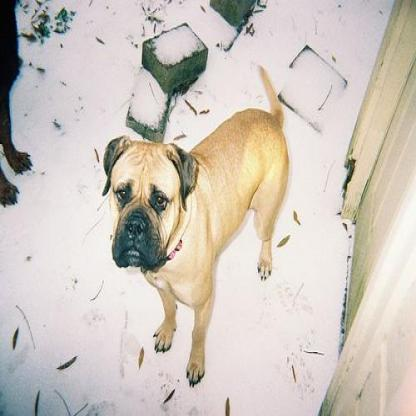bull_mastiff: (101, 65, 288, 385)
